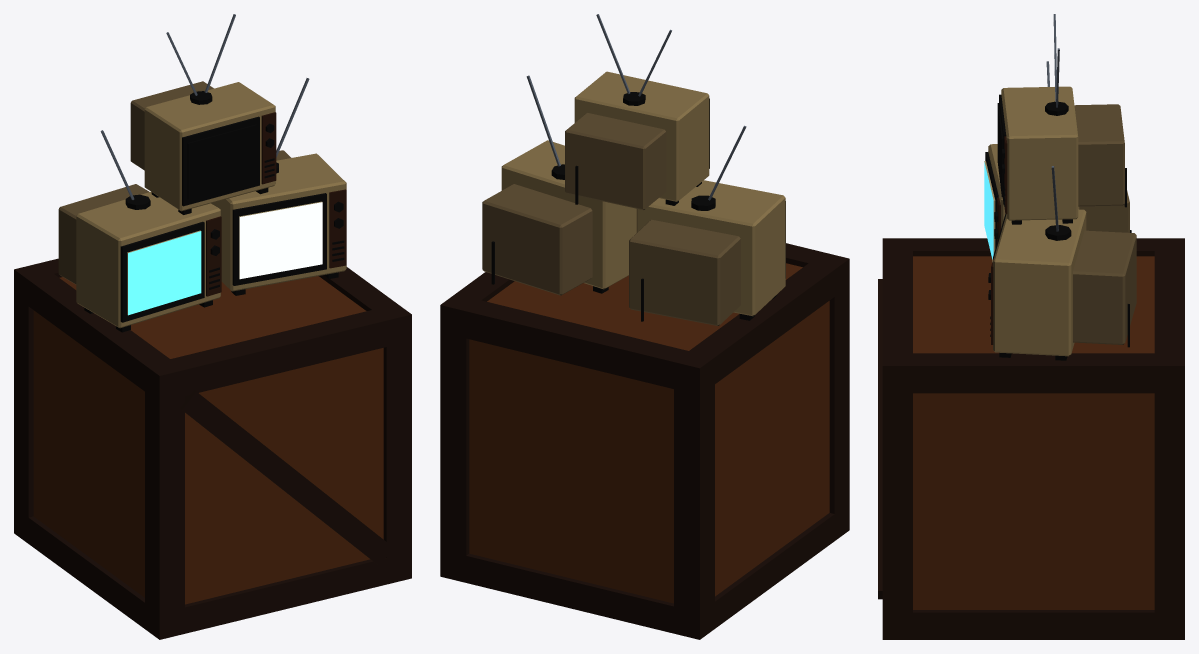
The model's file is SM_Hide_TV_Stack.glb.
The picture shows the model from 3 angles, left to right: view 1: azimuth 30°, elevation 25°; view 2: azimuth 150°, elevation 25°; view 3: azimuth 270°, elevation 25°; orthographic projection. The views are drawn at different scales.
Parts seen in each view (by area): view 1: SM_Hide_TV_Stack-col; view 2: SM_Hide_TV_Stack-col; view 3: SM_Hide_TV_Stack-col.
Boxes of the visible parts, x1,y1,x2,y2 form: SM_Hide_TV_Stack-col: [14, 14, 411, 639]; SM_Hide_TV_Stack-col: [440, 14, 849, 639]; SM_Hide_TV_Stack-col: [878, 14, 1184, 639].
Size of the model in its own units: 1 by 1.99 by 1.01.
